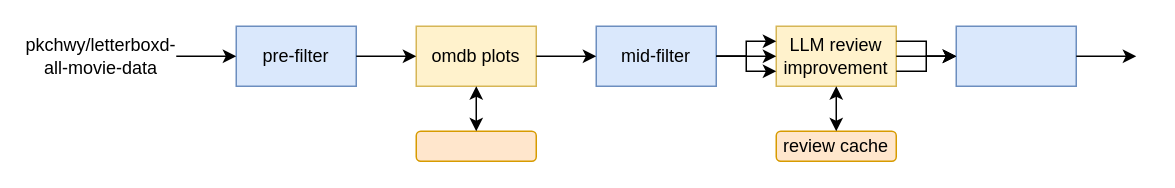
Image size: 1175x188. Some labels were removed from this diagram. The shapes that lost their labels are listed below. From the top down, each one's centre as x and y in pixels, then its label:
the point at 1015,55: post-filter
the point at 475,145: plot cache
